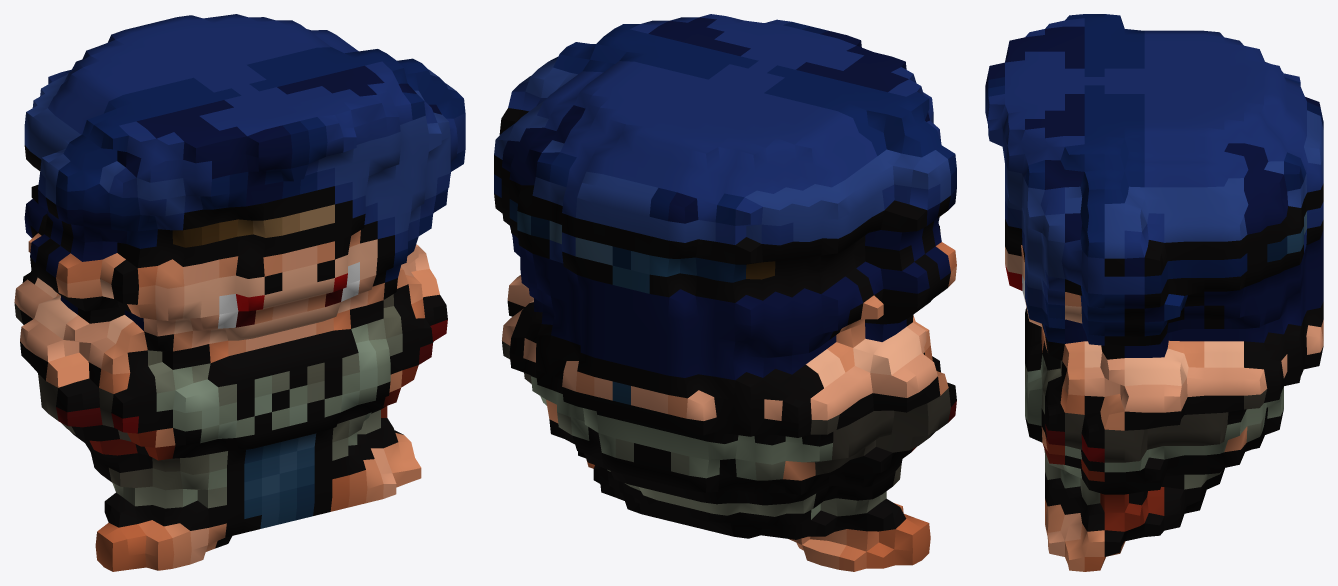
The model's file is Icon_725_03.obj.
3 renders of one model, left to right at view 1: azimuth 30°, elevation 25°; view 2: azimuth 150°, elevation 25°; view 3: azimuth 270°, elevation 25°, orthographic. The views are drawn at different scales.
Bounding box in the file's own units: 2.3 × 2.4 × 1.7.
